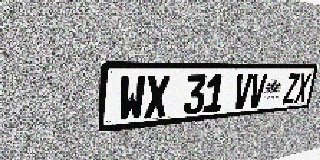1: (203, 74, 226, 113)
3: (183, 75, 207, 115)
V: (232, 74, 253, 110), (247, 74, 268, 108)
W: (118, 75, 146, 122)
X: (144, 75, 170, 119), (294, 73, 311, 103)
Z: (282, 73, 300, 104)
